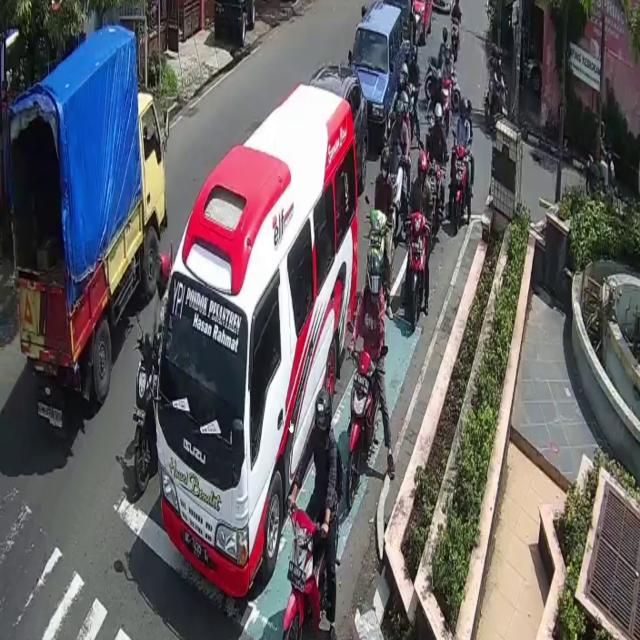bus: (285, 501, 332, 640), (349, 347, 380, 502), (134, 344, 159, 492), (363, 209, 390, 312), (428, 53, 462, 113), (409, 216, 427, 329), (582, 149, 617, 206), (454, 144, 470, 228), (486, 77, 508, 137)
car: (157, 82, 358, 594)
motorcycle: (351, 0, 407, 144), (312, 62, 370, 184), (409, 0, 435, 40)
truck: (4, 24, 166, 402)
